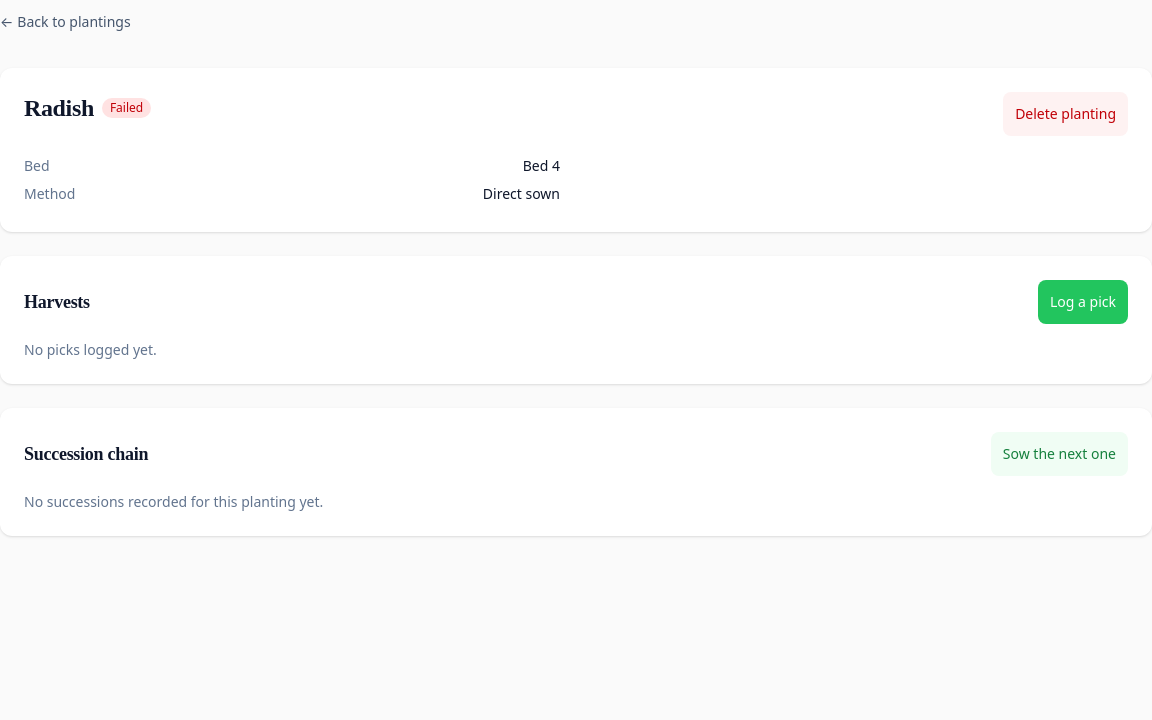
Test: PlantingDetail › logging a pick against a failed planting is refused, keeps the modal open and keeps the entry
The width and height of the screenshot is (1152, 720).
Expected: the heading "Radish" is shown, x1=24 y1=92 x2=94 y2=124
Click the button "Log a pick".
click(1083, 302)  # box x1=1038 y1=280 x2=1128 y2=324
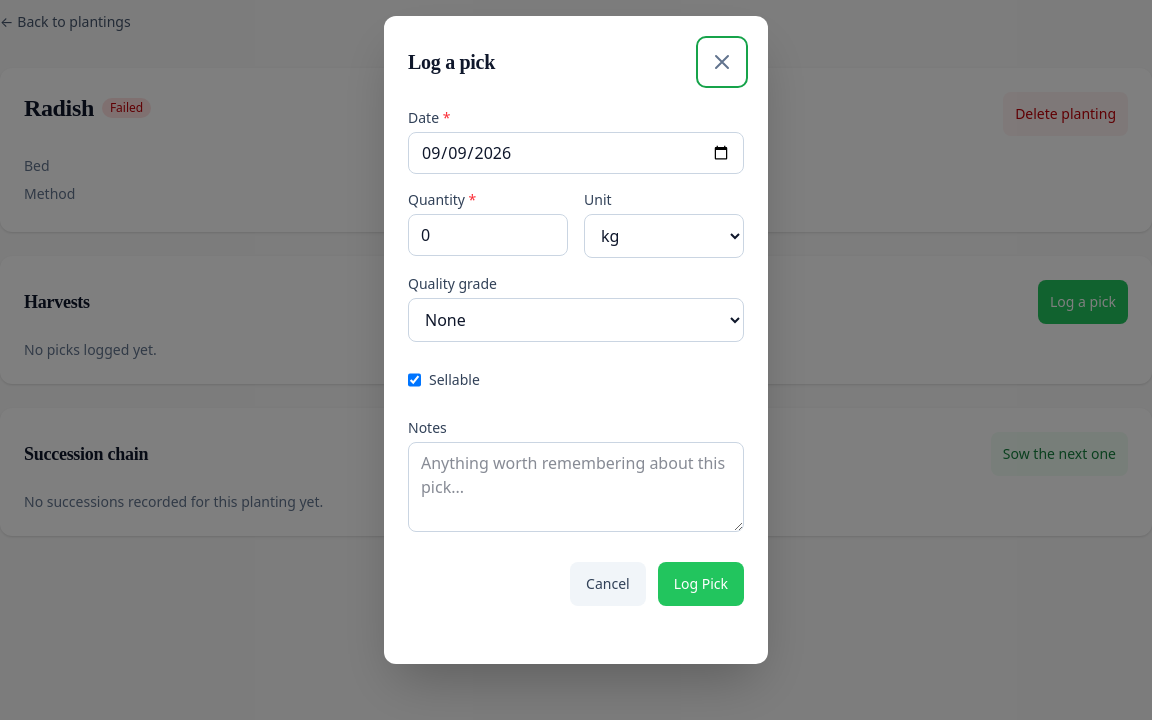
Replace the text in the number field labelled "Quantity *" with "3" at (488, 235), box x1=408 y1=214 x2=568 y2=256
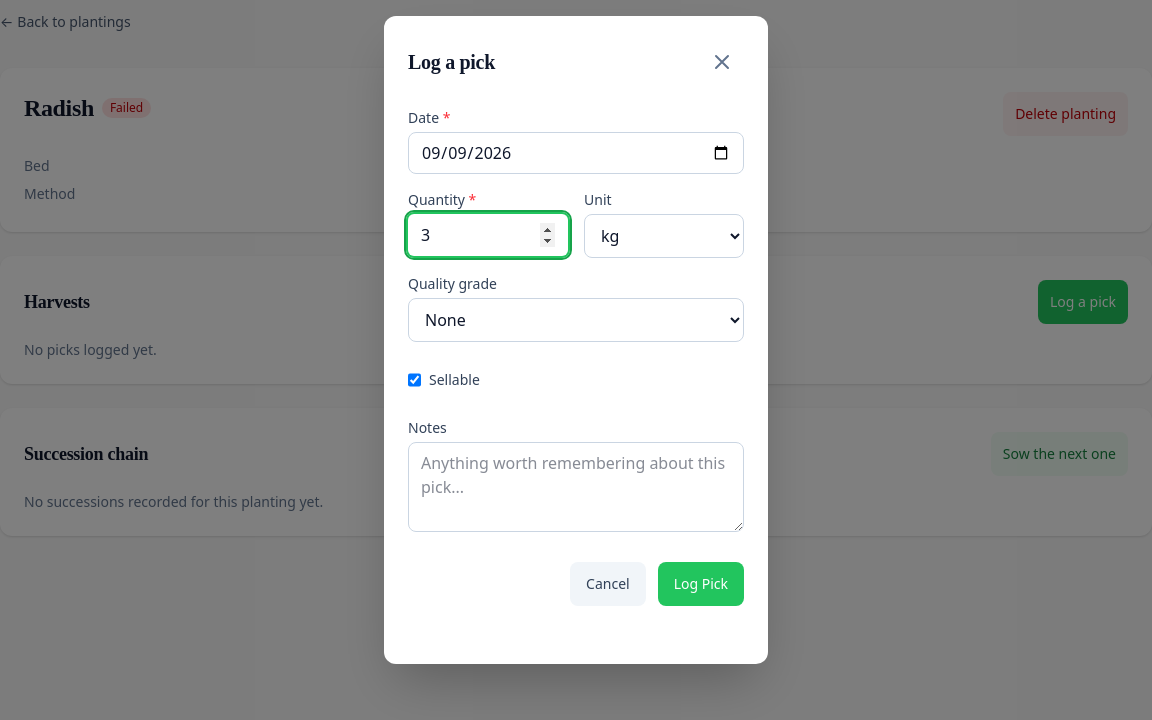
Type "late pick, wrong planting maybe" into the text box labelled "Notes".
click(576, 487); type("late pick, wrong planting maybe")  # box x1=408 y1=442 x2=744 y2=532
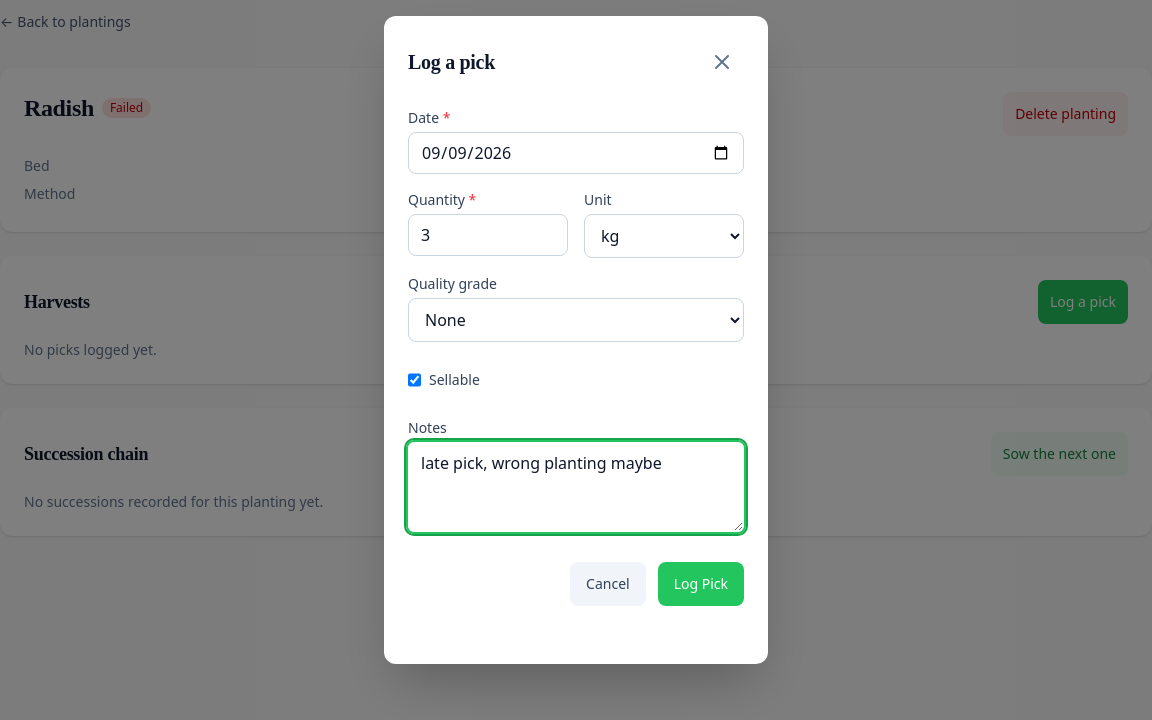
Click the button "Log Pick".
click(701, 584)  # box x1=658 y1=562 x2=744 y2=606
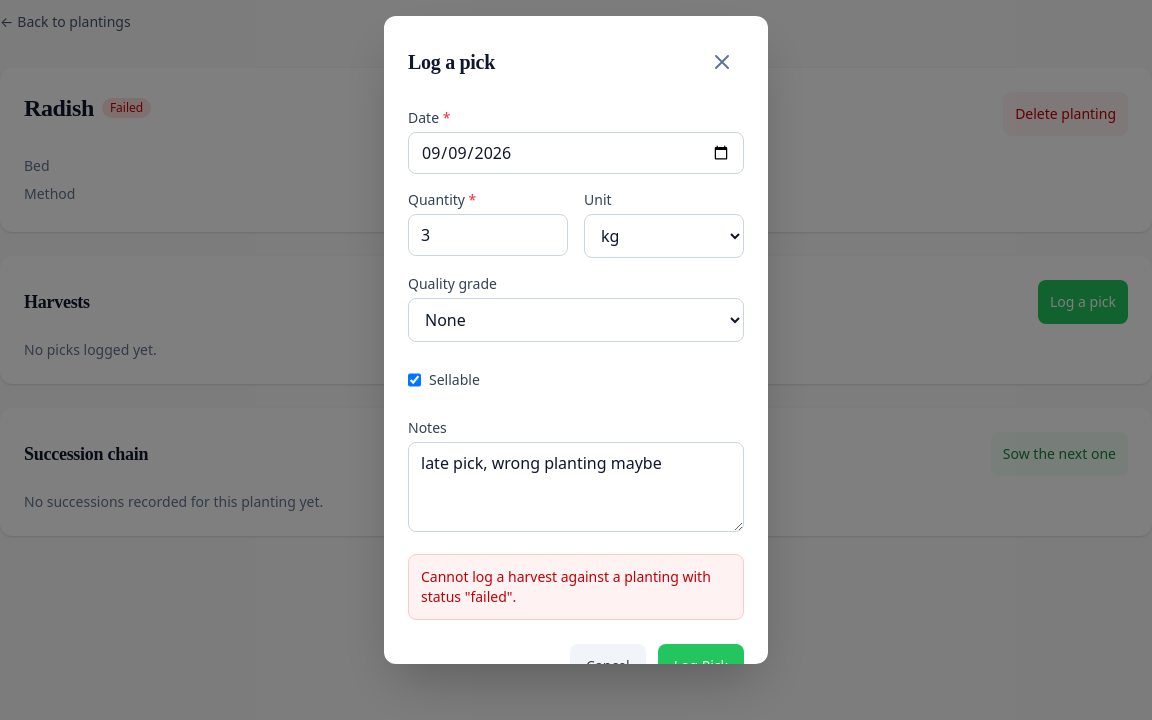
Expected: the dialog is shown, x1=384 y1=16 x2=768 y2=664
Expected: the text "Cannot log a harvest" is shown, x1=421 y1=567 x2=711 y2=606
